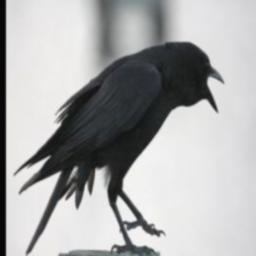Crow: (14, 39, 225, 256)
